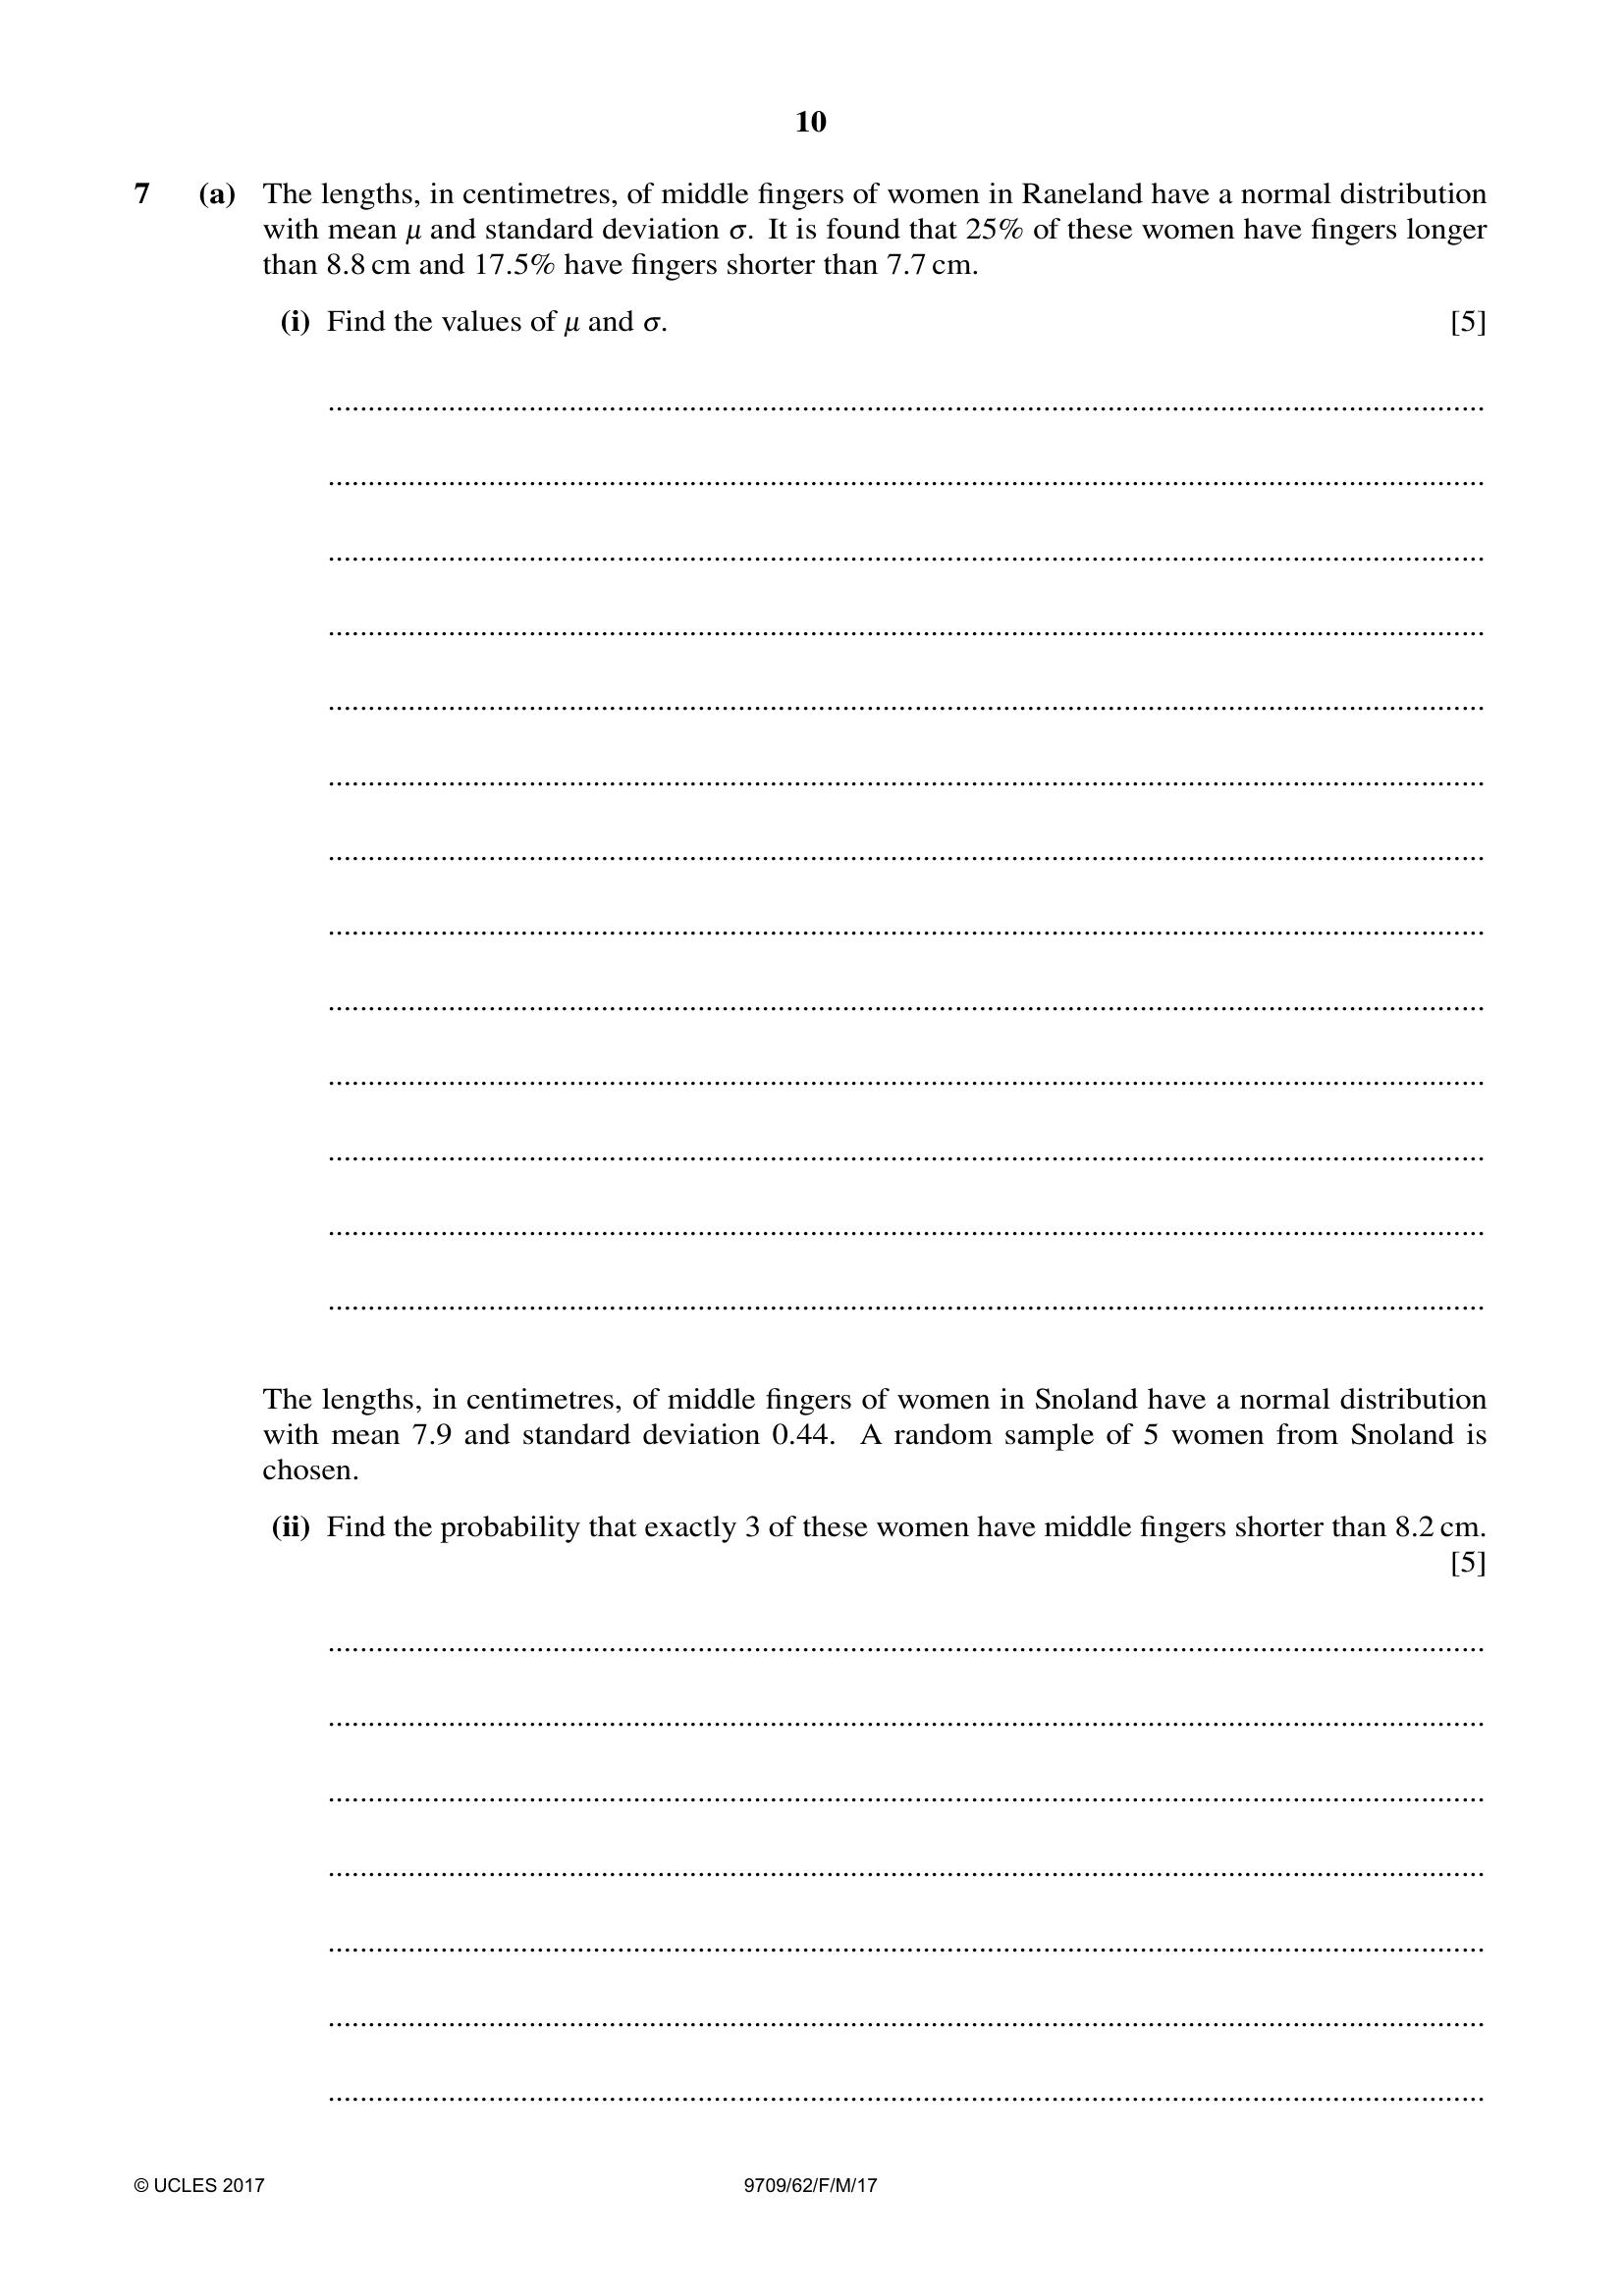question: (11, 154, 1619, 2143)
